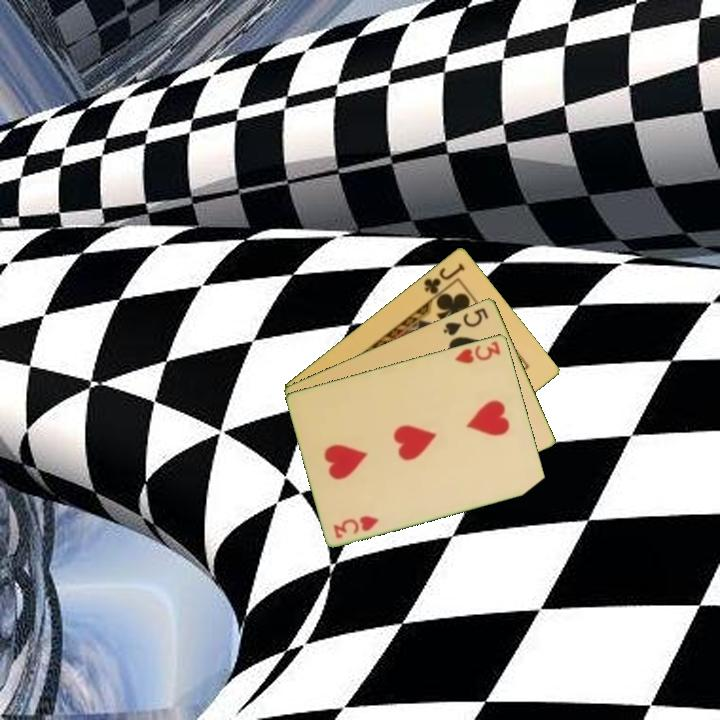3h: (451, 337, 504, 366), (330, 512, 382, 541)
5s: (439, 304, 491, 338)
Jc: (420, 259, 468, 297)
